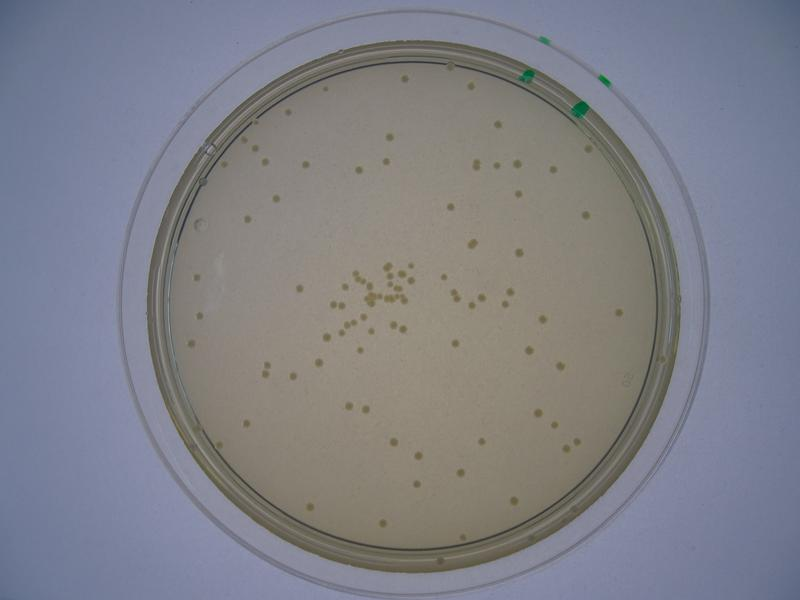colony: (535, 311, 550, 326), (448, 336, 462, 352), (553, 357, 567, 372), (578, 208, 592, 222), (238, 416, 253, 429), (612, 304, 625, 319), (475, 435, 490, 448), (304, 498, 317, 513), (188, 270, 204, 282), (193, 309, 206, 322), (311, 354, 324, 367), (511, 187, 524, 200), (512, 246, 526, 258), (523, 343, 533, 359), (299, 159, 312, 171), (400, 72, 412, 85), (386, 435, 398, 448), (410, 477, 422, 490), (508, 495, 522, 506), (546, 163, 560, 174), (533, 404, 543, 419), (344, 397, 353, 413), (454, 466, 466, 478), (491, 116, 502, 129), (270, 193, 281, 205), (351, 164, 364, 174), (551, 416, 561, 429), (376, 517, 387, 528), (464, 79, 475, 90), (241, 214, 253, 224), (445, 201, 455, 213), (288, 369, 298, 381), (413, 450, 423, 461), (295, 281, 304, 293), (361, 402, 370, 414), (185, 337, 195, 347), (354, 344, 365, 353), (383, 132, 395, 140), (381, 156, 390, 166)
